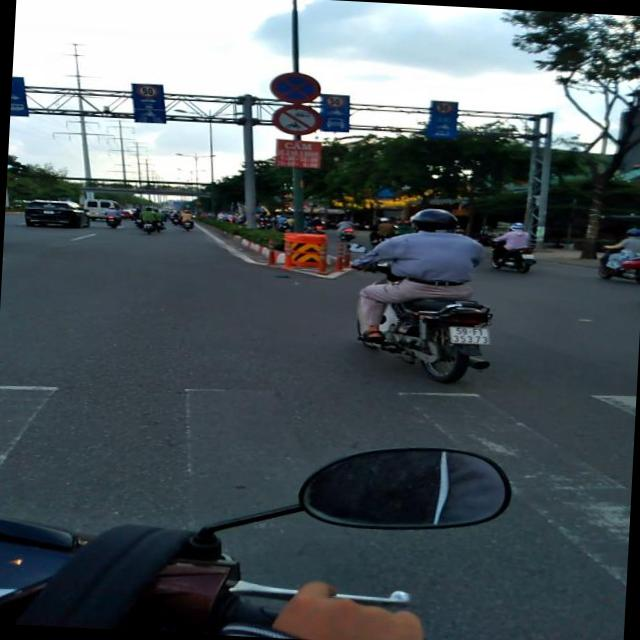P-105: (272, 100, 324, 134)
P-130: (270, 70, 324, 106)
